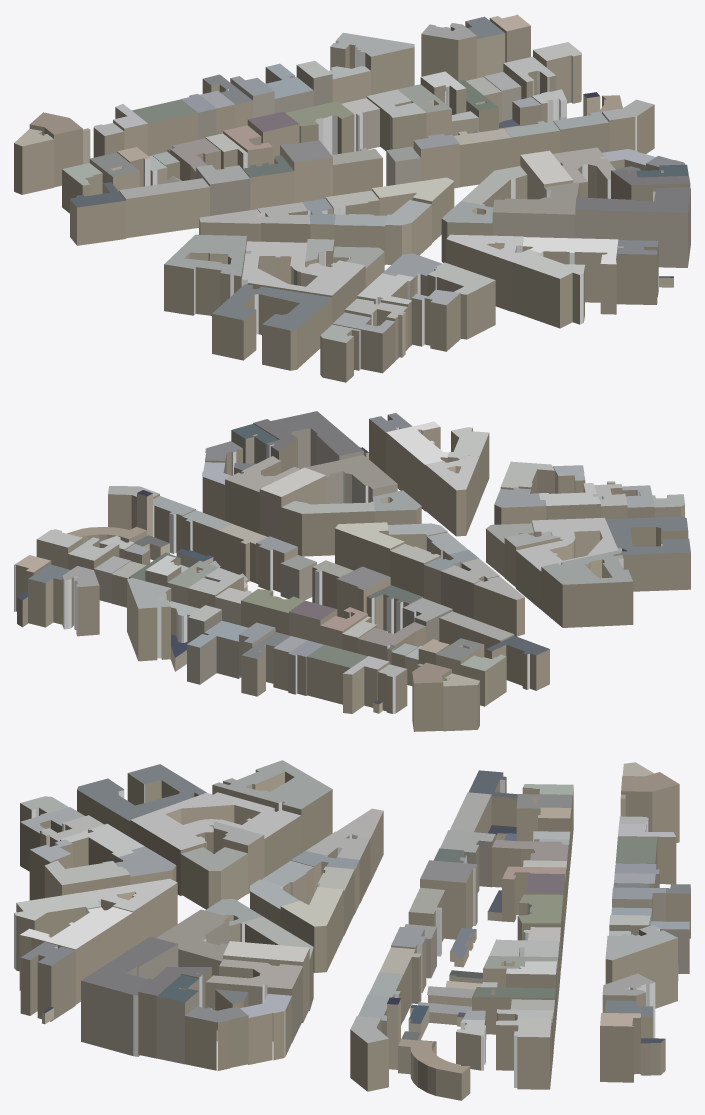
The picture shows the model from 3 angles, top to bottom: view 1: azimuth 30°, elevation 25°; view 2: azimuth 150°, elevation 25°; view 3: azimuth 270°, elevation 25°; orthographic projection. The views are drawn at different scales.
Visible parts, largest first — view 1: tuile; view 2: tuile; view 3: tuile.
Boxes of the visible parts, x1,y1,x2,y2 form: tuile: [14, 14, 690, 382]; tuile: [14, 411, 690, 731]; tuile: [14, 760, 690, 1100].
Size of the model in its own units: 283 by 31.44 by 275.
